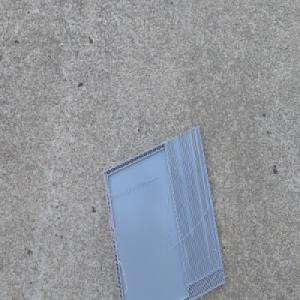PlasticPart: (103, 123, 225, 299)
